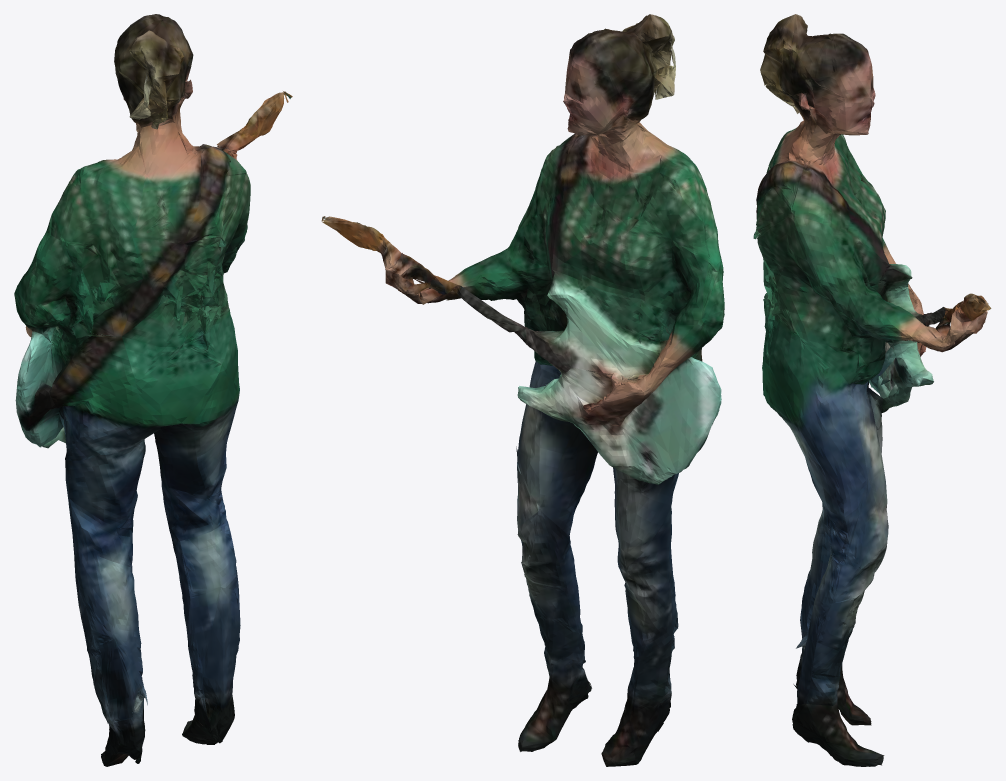
3 renders of one model, left to right at view 1: azimuth 30°, elevation 25°; view 2: azimuth 150°, elevation 25°; view 3: azimuth 270°, elevation 25°, orthographic. The views are drawn at different scales.
Parts seen in each view (by area): view 1: dec_0000; view 2: dec_0000; view 3: dec_0000.
Part boxes in pixels (<box>): dec_0000: <box>14,14,292,766</box>; dec_0000: <box>321,14,724,766</box>; dec_0000: <box>753,14,991,766</box>.
Bounding box in the file's own units: 0.8229 × 1.73 × 0.5245.
1 material, 1 textured.
